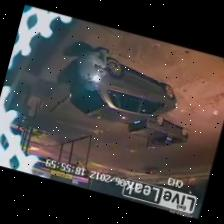person: (77, 47, 108, 78)
